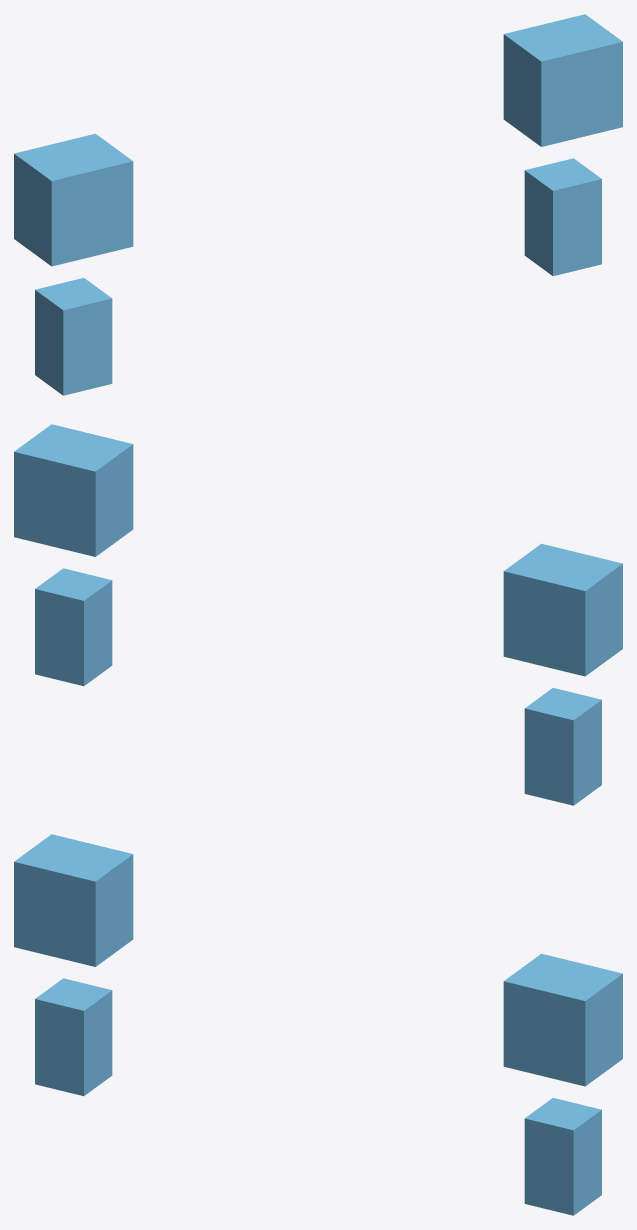
The model's file is fx_tears.glb.
3 renders of one model, top to bottom at view 1: azimuth 30°, elevation 25°; view 2: azimuth 150°, elevation 25°; view 3: azimuth 330°, elevation 25°, orthographic.
Visible parts, largest first — view 1: fx_tears; view 2: fx_tears; view 3: fx_tears.
Part boxes in pixels (x1,y1,x2,y2): fx_tears: [14, 14, 622, 395]; fx_tears: [14, 424, 622, 805]; fx_tears: [14, 834, 622, 1215].
Bounding box in the file's own units: 0.35 × 0.13 × 0.04.
Materials: 1 (1 with a texture image).
